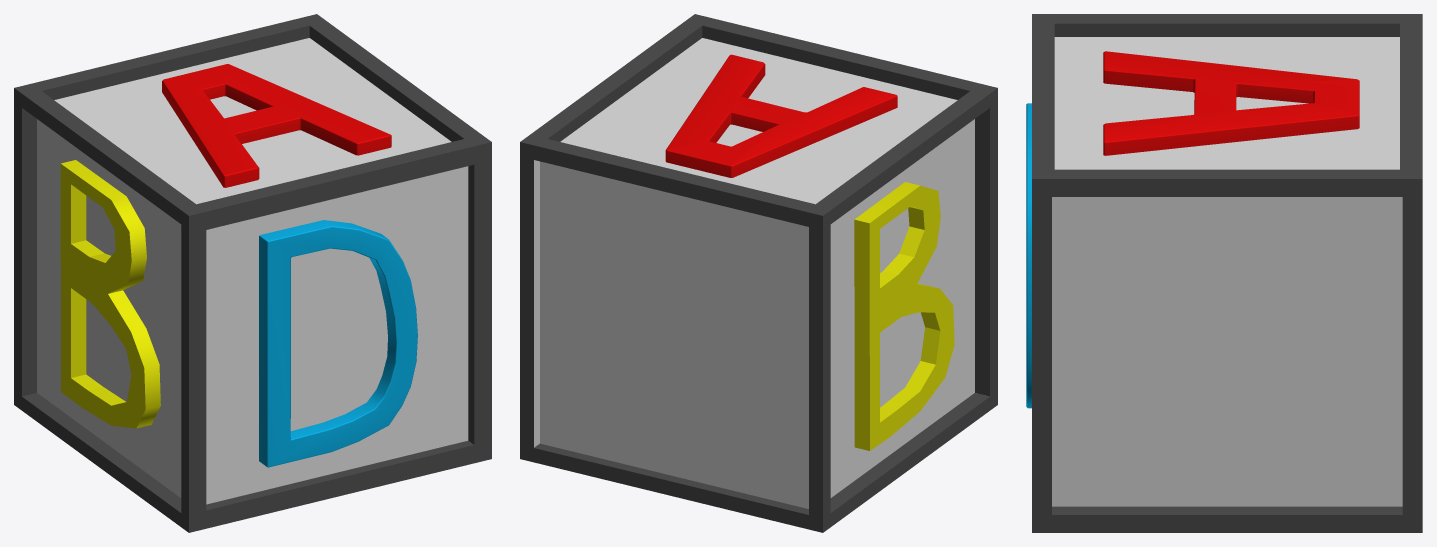
The model's file is SM_LetterCube 1.fbx.
3 views of the same model, side by side, from view 1: azimuth 30°, elevation 25°; view 2: azimuth 150°, elevation 25°; view 3: azimuth 270°, elevation 25° (orthographic). The views are drawn at different scales.
Parts seen in each view (by area): view 1: LetterCube; view 2: LetterCube; view 3: LetterCube.
Boxes of the visible parts, x1,y1,x2,y2 form: LetterCube: (14, 14, 491, 532); LetterCube: (520, 14, 997, 532); LetterCube: (1026, 14, 1422, 532).
Bounding box in the file's own units: 24.8 × 24.8 × 25.16.
